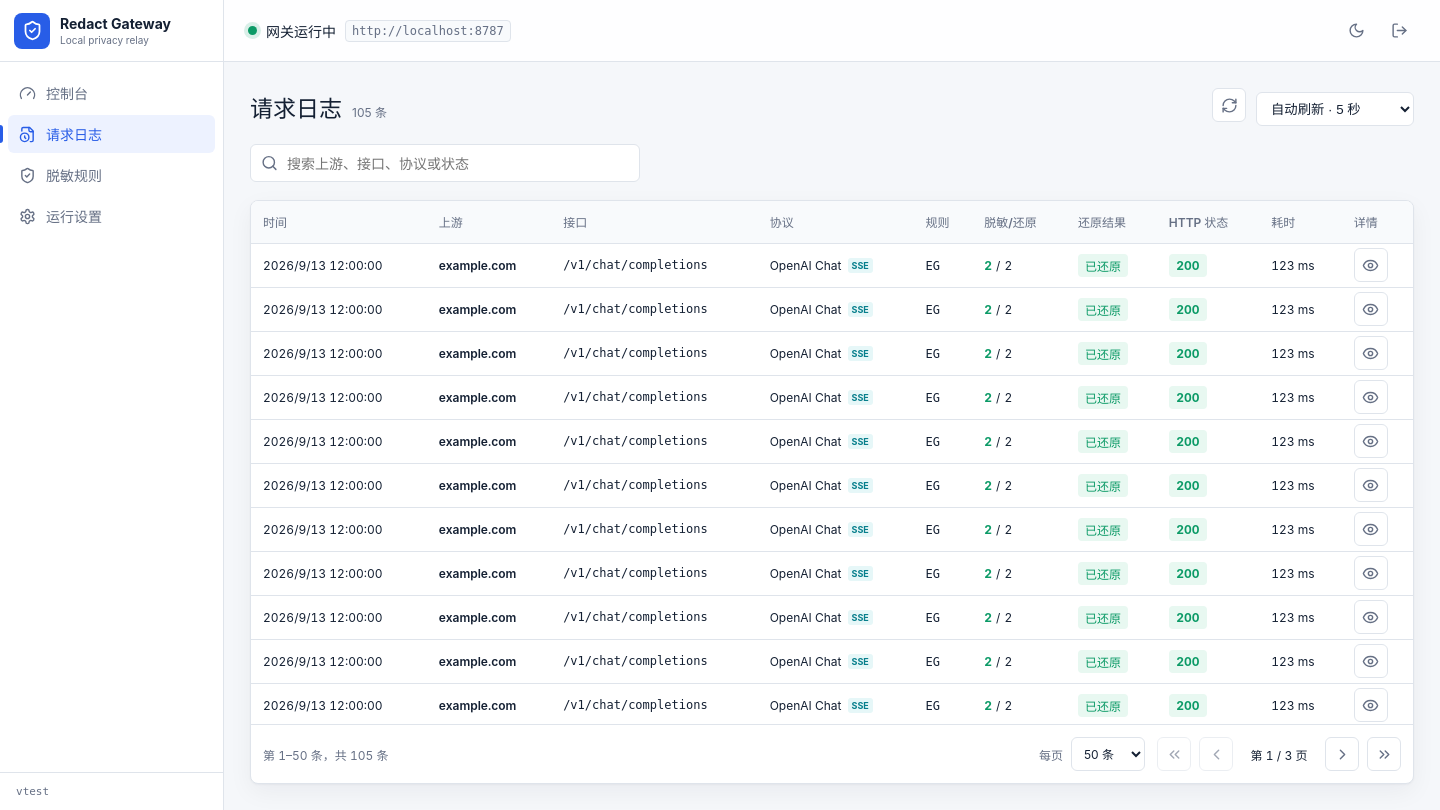
Test: App › navigates server pages and opens details for a record on a later page
The image size is (1440, 810).
Expected: the text "第 1–50 条，共 105 条" is shown, [263,746,389,762]
Expected: the button named "首页" is disabled, [1157,737,1191,771]
Click the button named "下一页" at (1342, 754), box [1325,737,1359,771]
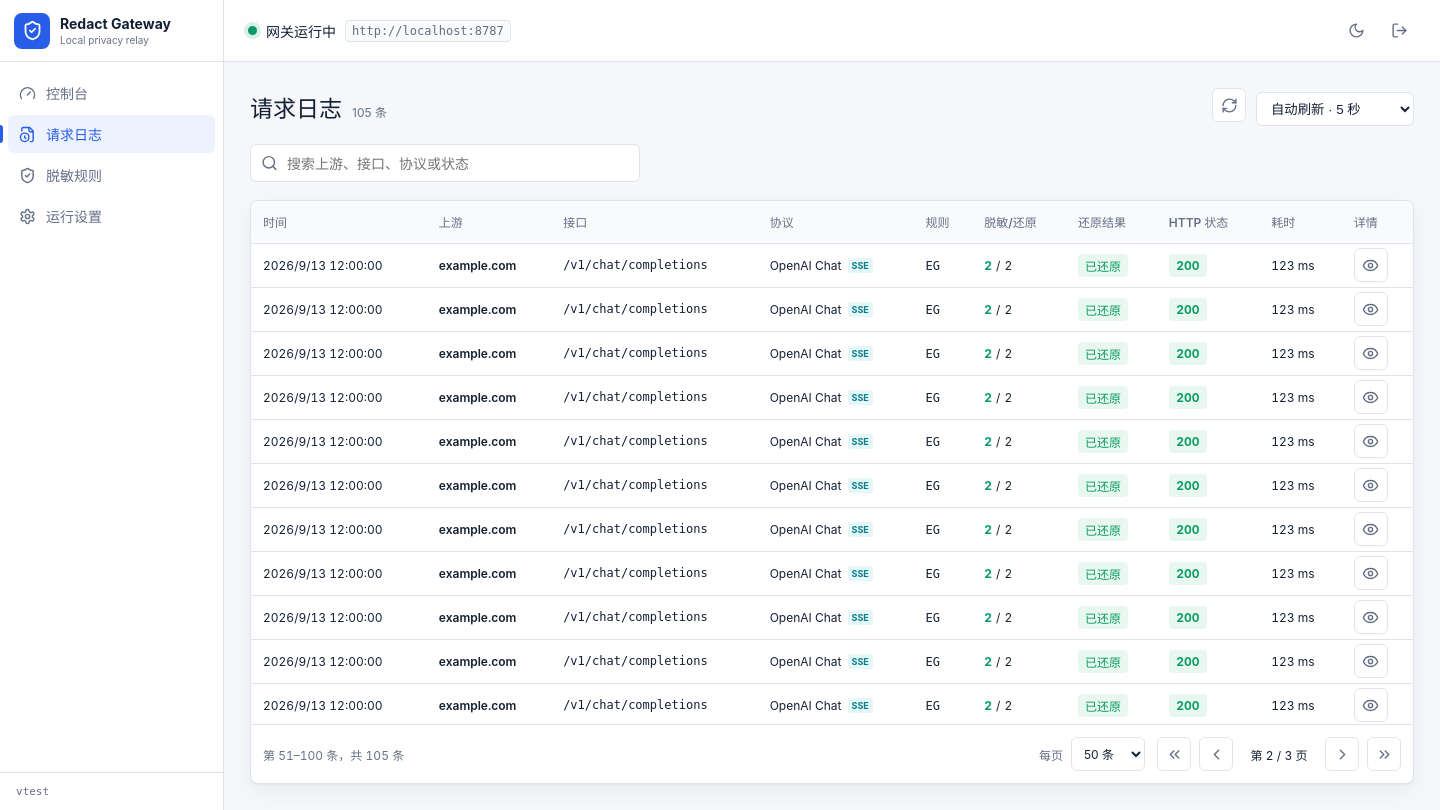
Expected: the text "第 51–100 条，共 105 条" is shown, [263,746,404,762]
Click the button named "查看请求 request-51 的详情" at (1371, 265), box [1354,248,1388,282]
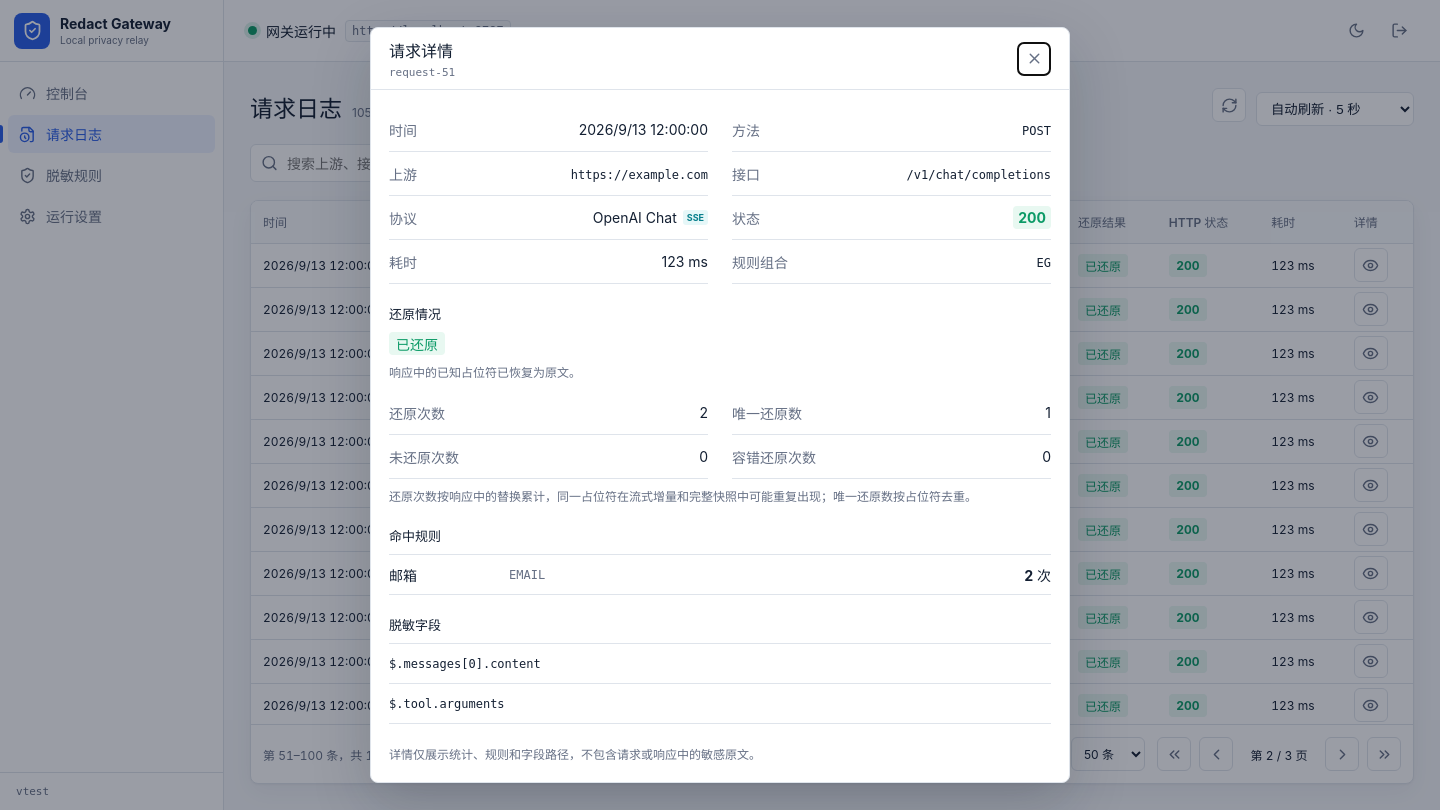
Expected: the text "request-51" is shown, [389,66,455,79]
Click the button named "关闭请求详情" at (1034, 58), box [1017,42,1051,76]
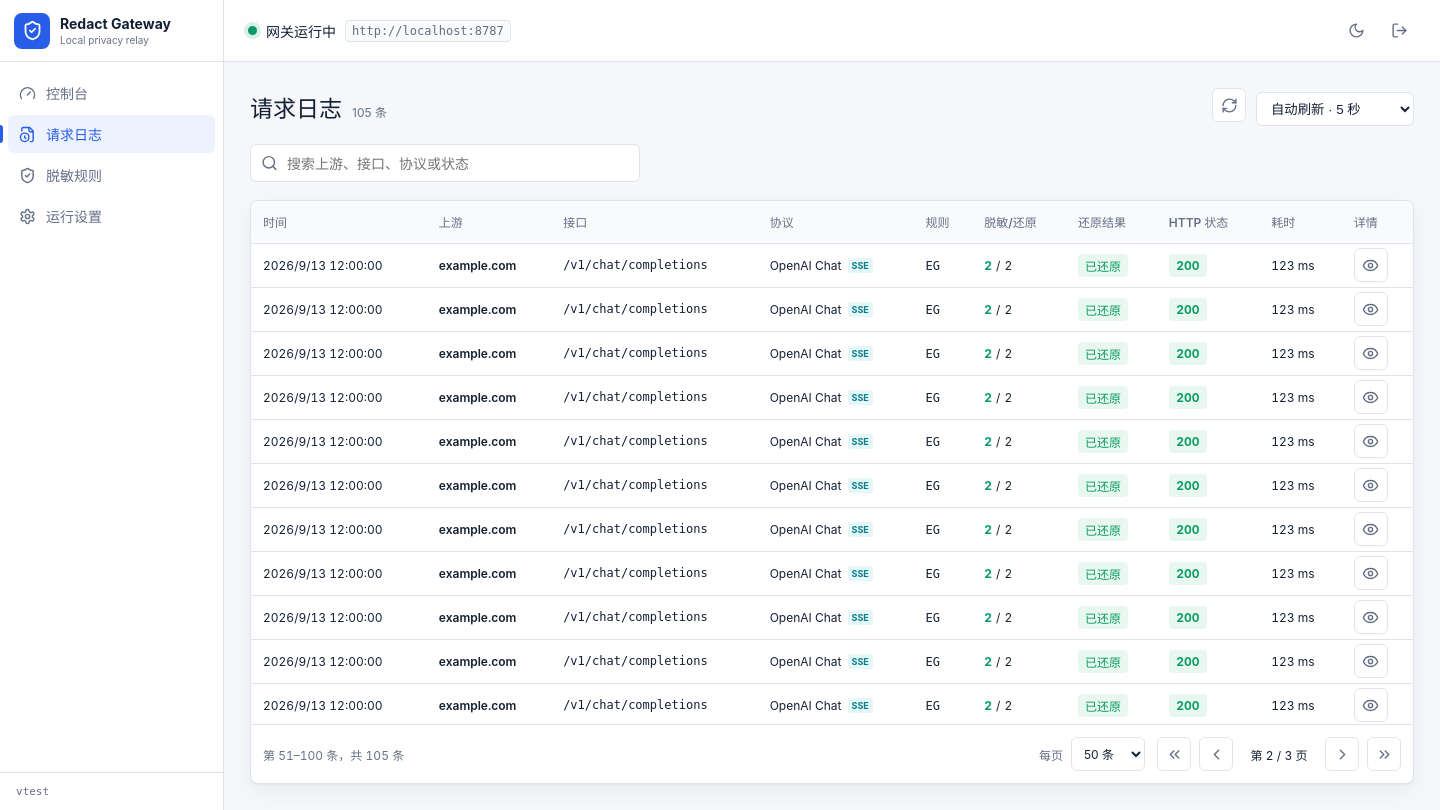
Click the button named "末页" at (1384, 754), box [1367,737,1401,771]
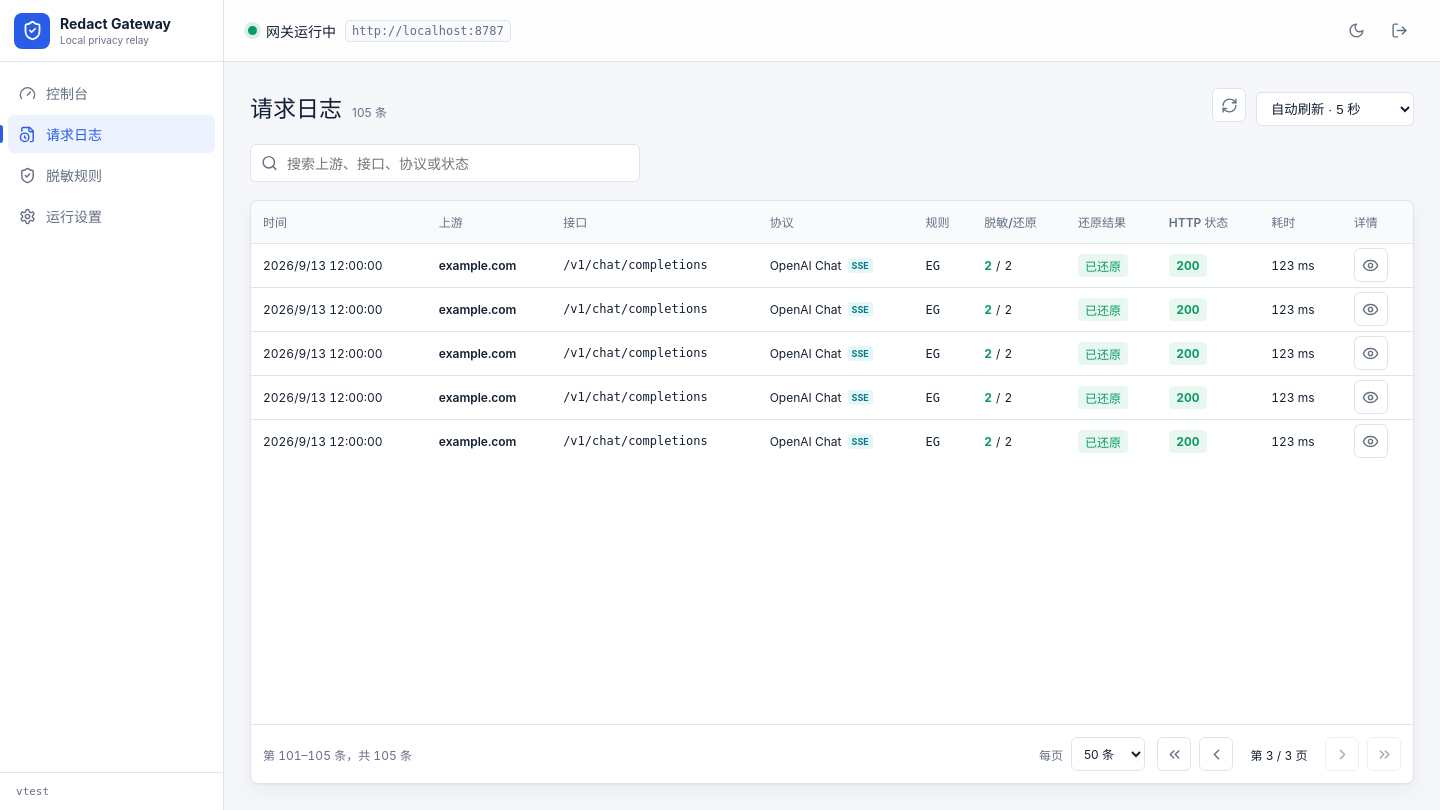
Expected: the button named "下一页" is disabled, [1325,737,1359,771]
Expected: the text "第 101–105 条，共 105 条" is shown, [263,746,412,762]
Expected: the button named "末页" is disabled, [1367,737,1401,771]
Click the button named "上一页" at (1216, 754), box [1199,737,1233,771]
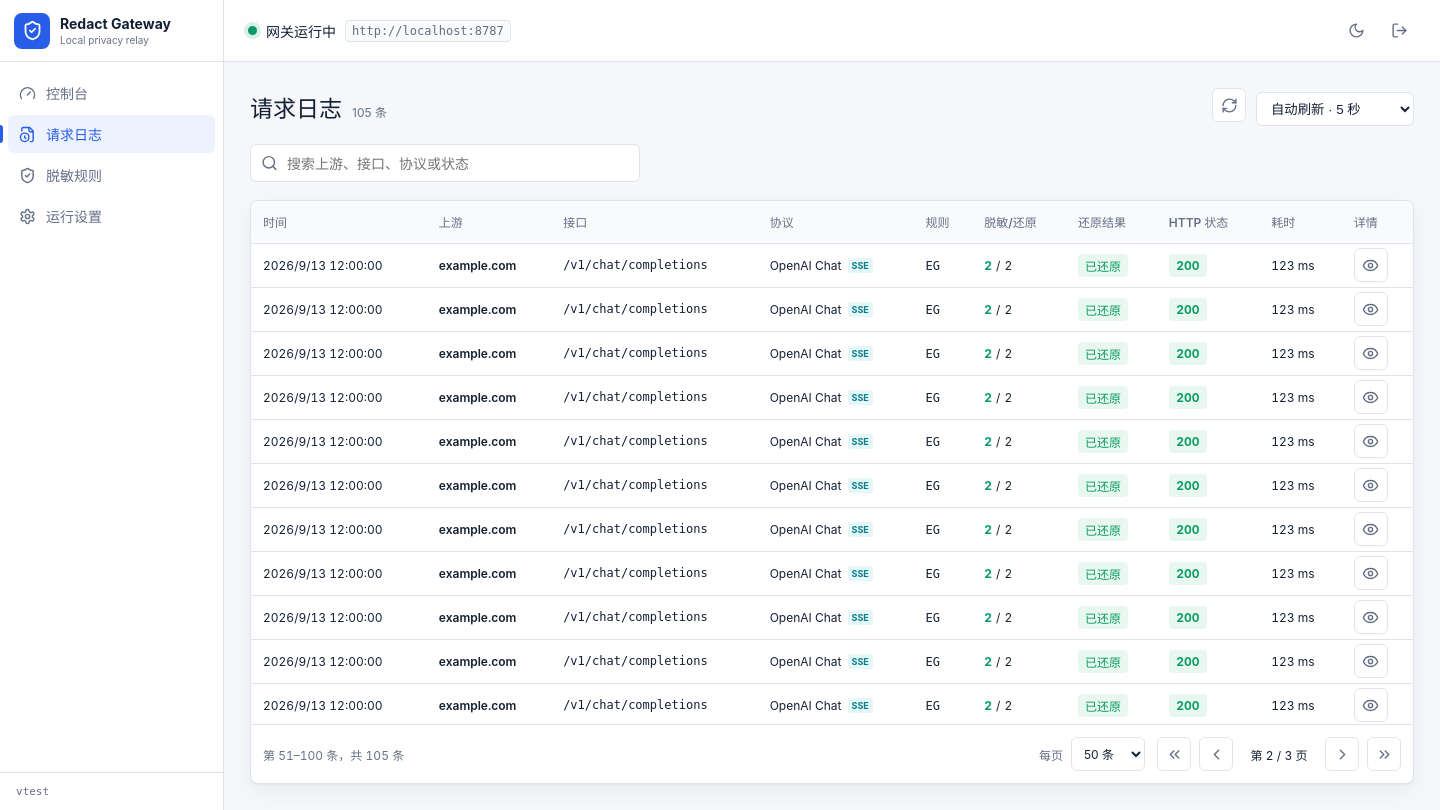
Expected: the button named "首页" is enabled
Expected: the text "第 51–100 条，共 105 条" is shown, [263,746,404,762]
Click the button named "首页" at (1174, 754), box [1157,737,1191,771]
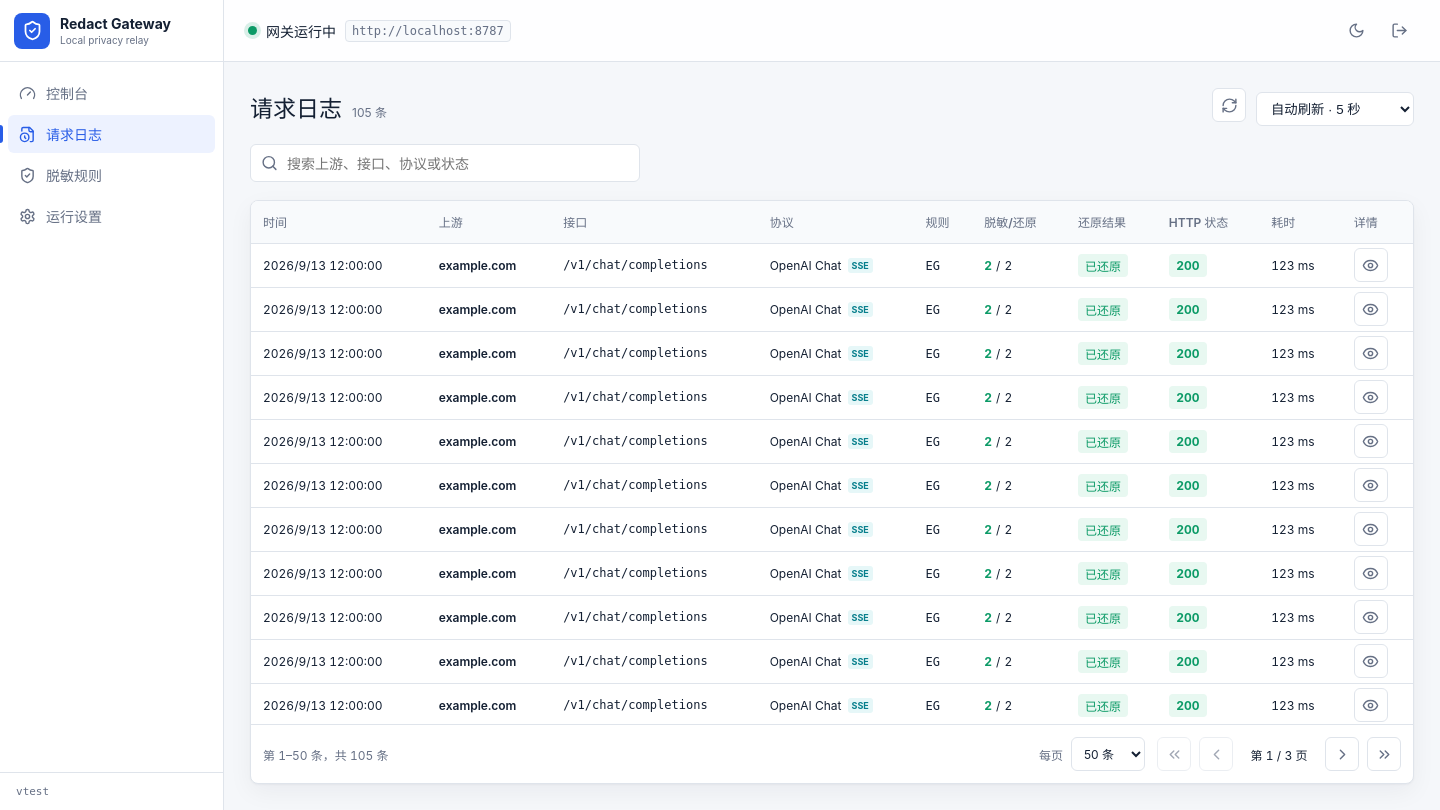
Expected: the text "第 1–50 条，共 105 条" is shown, [263,746,389,762]
